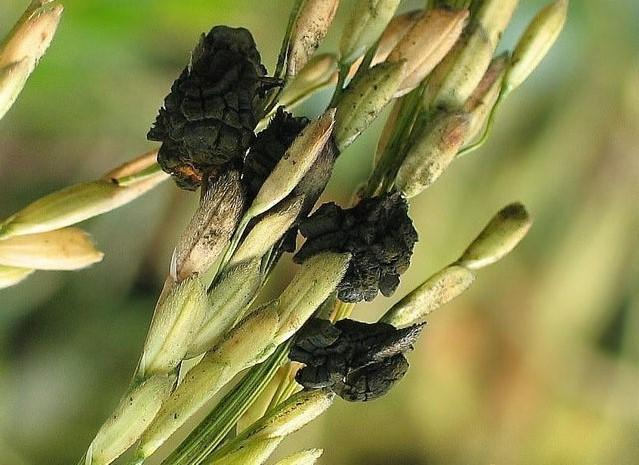False Smut: (149, 20, 276, 189), (289, 189, 421, 310), (286, 314, 431, 406), (244, 109, 314, 218)
